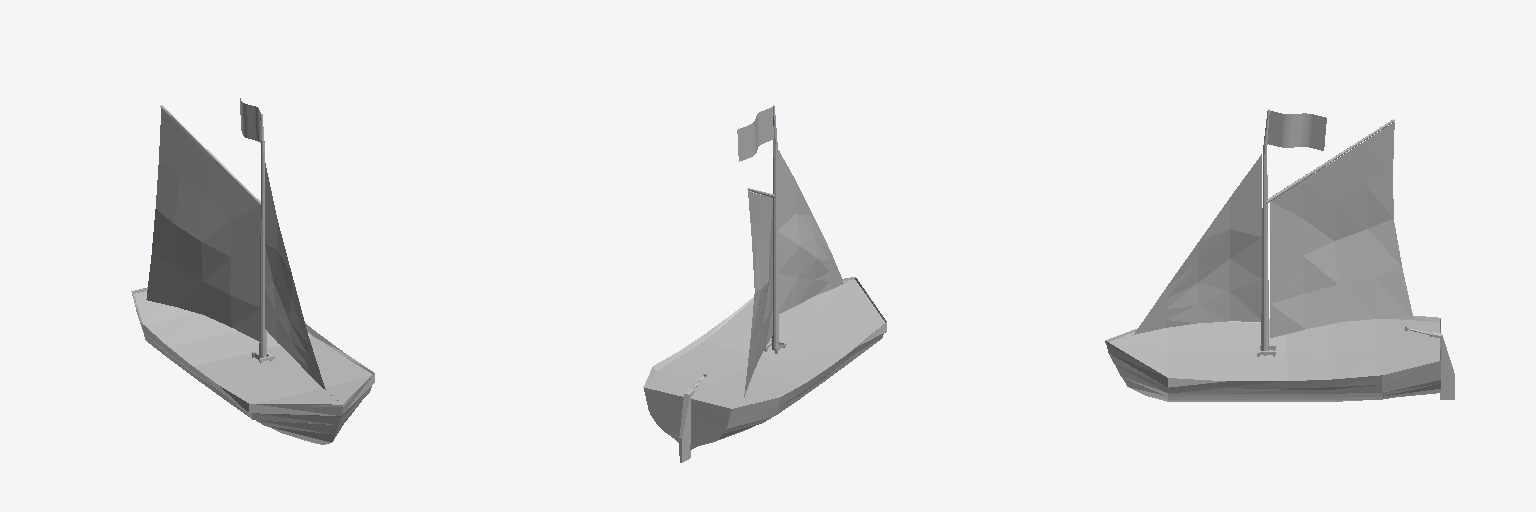
File: boat.obj
3 renders of one model, left to right at view 1: azimuth 30°, elevation 25°; view 2: azimuth 150°, elevation 25°; view 3: azimuth 270°, elevation 25°, orthographic.
Parts seen in each view (by area): view 1: Sail, Body, Mast; view 2: Body, Sail, Mast; view 3: Sail, Body, Mast.
Part boxes in pixels (left/top/right/bottom): Sail: left=146, top=108, right=337, bottom=400; Body: left=131, top=287, right=374, bottom=444; Mast: left=160, top=98, right=266, bottom=357; Body: left=643, top=277, right=886, bottom=462; Sail: left=744, top=150, right=846, bottom=396; Mast: left=737, top=105, right=778, bottom=349; Sail: left=1109, top=122, right=1412, bottom=340; Body: left=1105, top=316, right=1454, bottom=401; Mast: left=1261, top=109, right=1394, bottom=355.
Size of the model in its own units: 2.09 by 4.57 by 4.96.